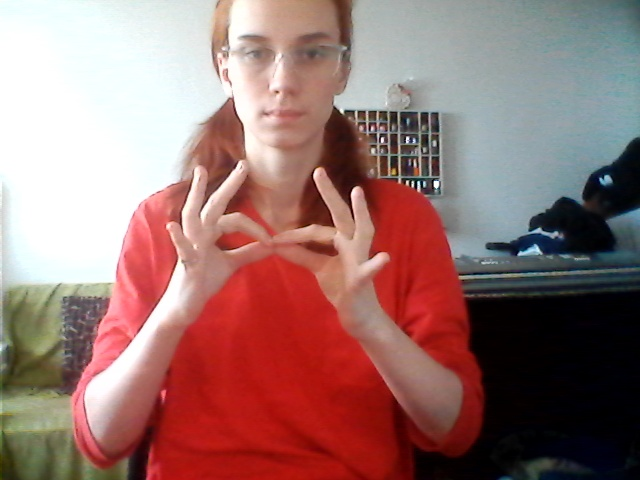b: (162, 155, 398, 341)
